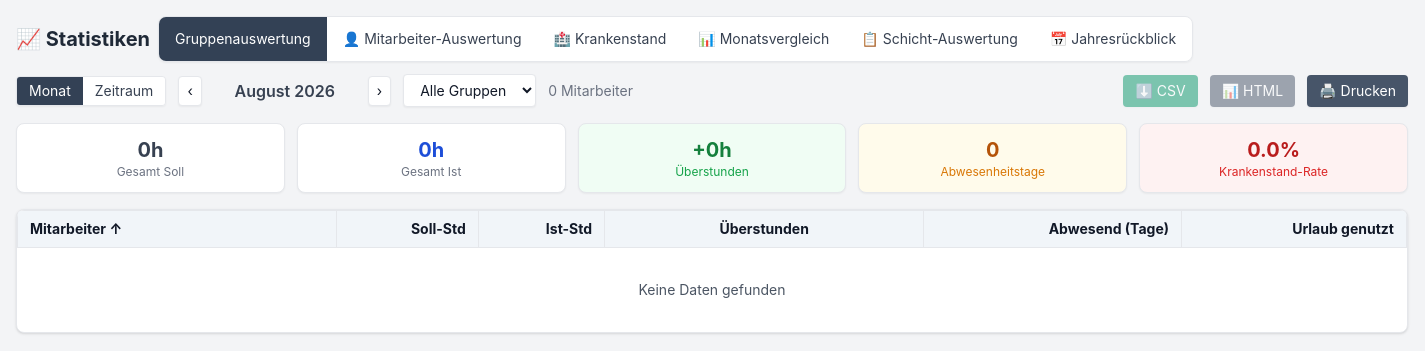
Test case: Statistiken — Zeitraum-Modus › zeigt im Zeitraum-Modus keine Monatsnavigation, im Monatsmodus wieder
Check: the button named "Vorheriger Monat" is shown, box 178,76 -> 202,106
Click the button "Zeitraum" at (124, 90), box 83,76 -> 165,104
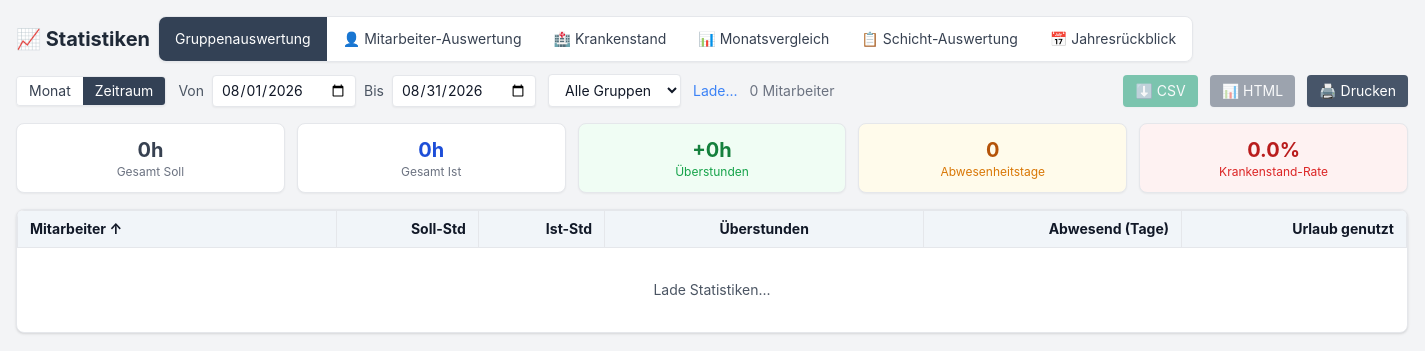
Check: the date field named "Von" is shown, box 212,74 -> 356,106
Click the button "Monat" at (50, 90), box 17,76 -> 83,104
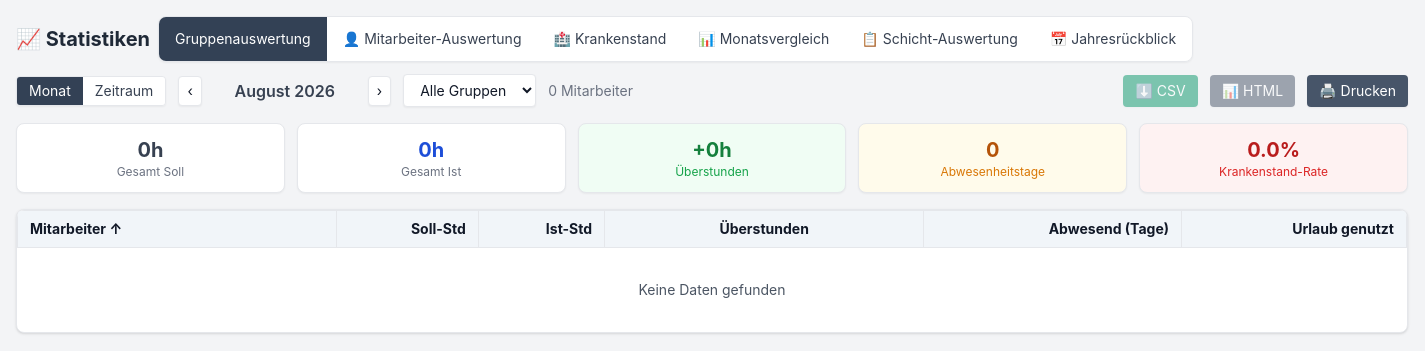
Check: the button named "Vorheriger Monat" is shown, box 178,76 -> 202,106
Check: the label labelled "Von" is gone
